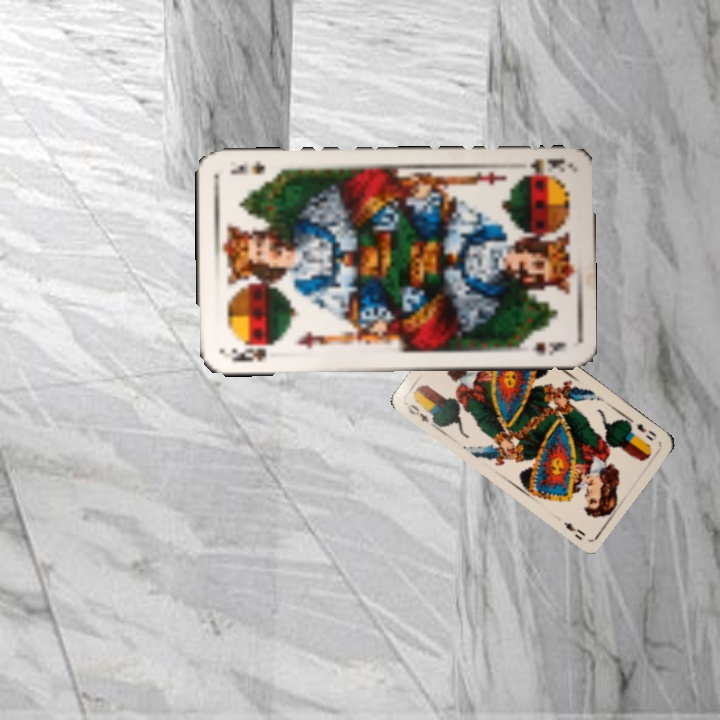EO: (625, 415, 659, 443), (403, 400, 431, 425)
SK: (519, 154, 568, 180), (227, 344, 269, 364)
